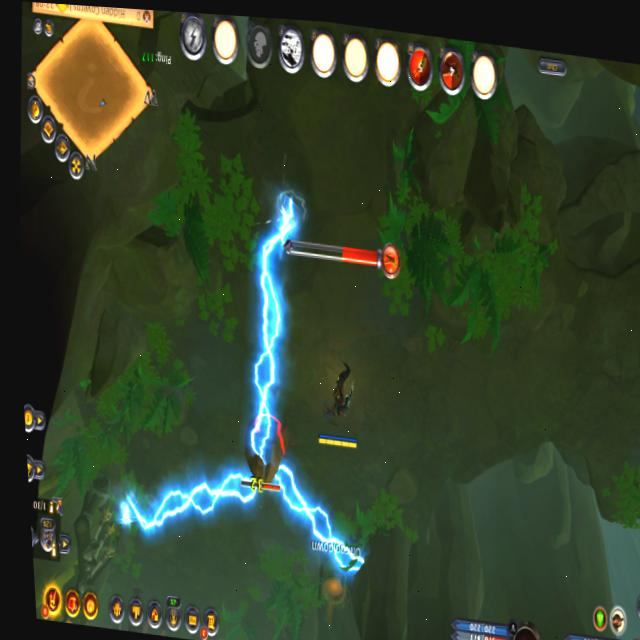ore: (240, 412, 290, 490)
red: (309, 355, 364, 454)
silver: (228, 183, 316, 467), (267, 461, 371, 594), (111, 472, 262, 545)
